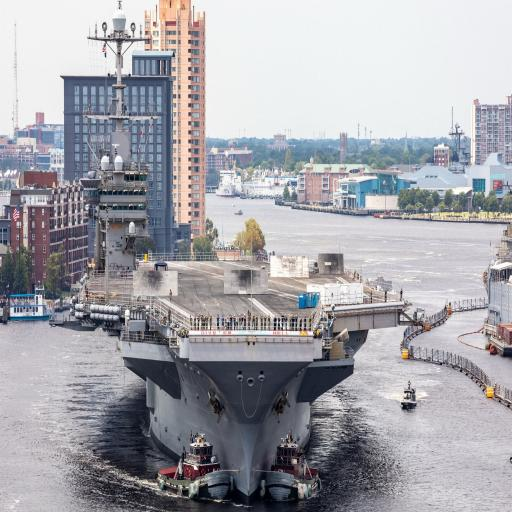Portanaves: (85, 1, 411, 499)
